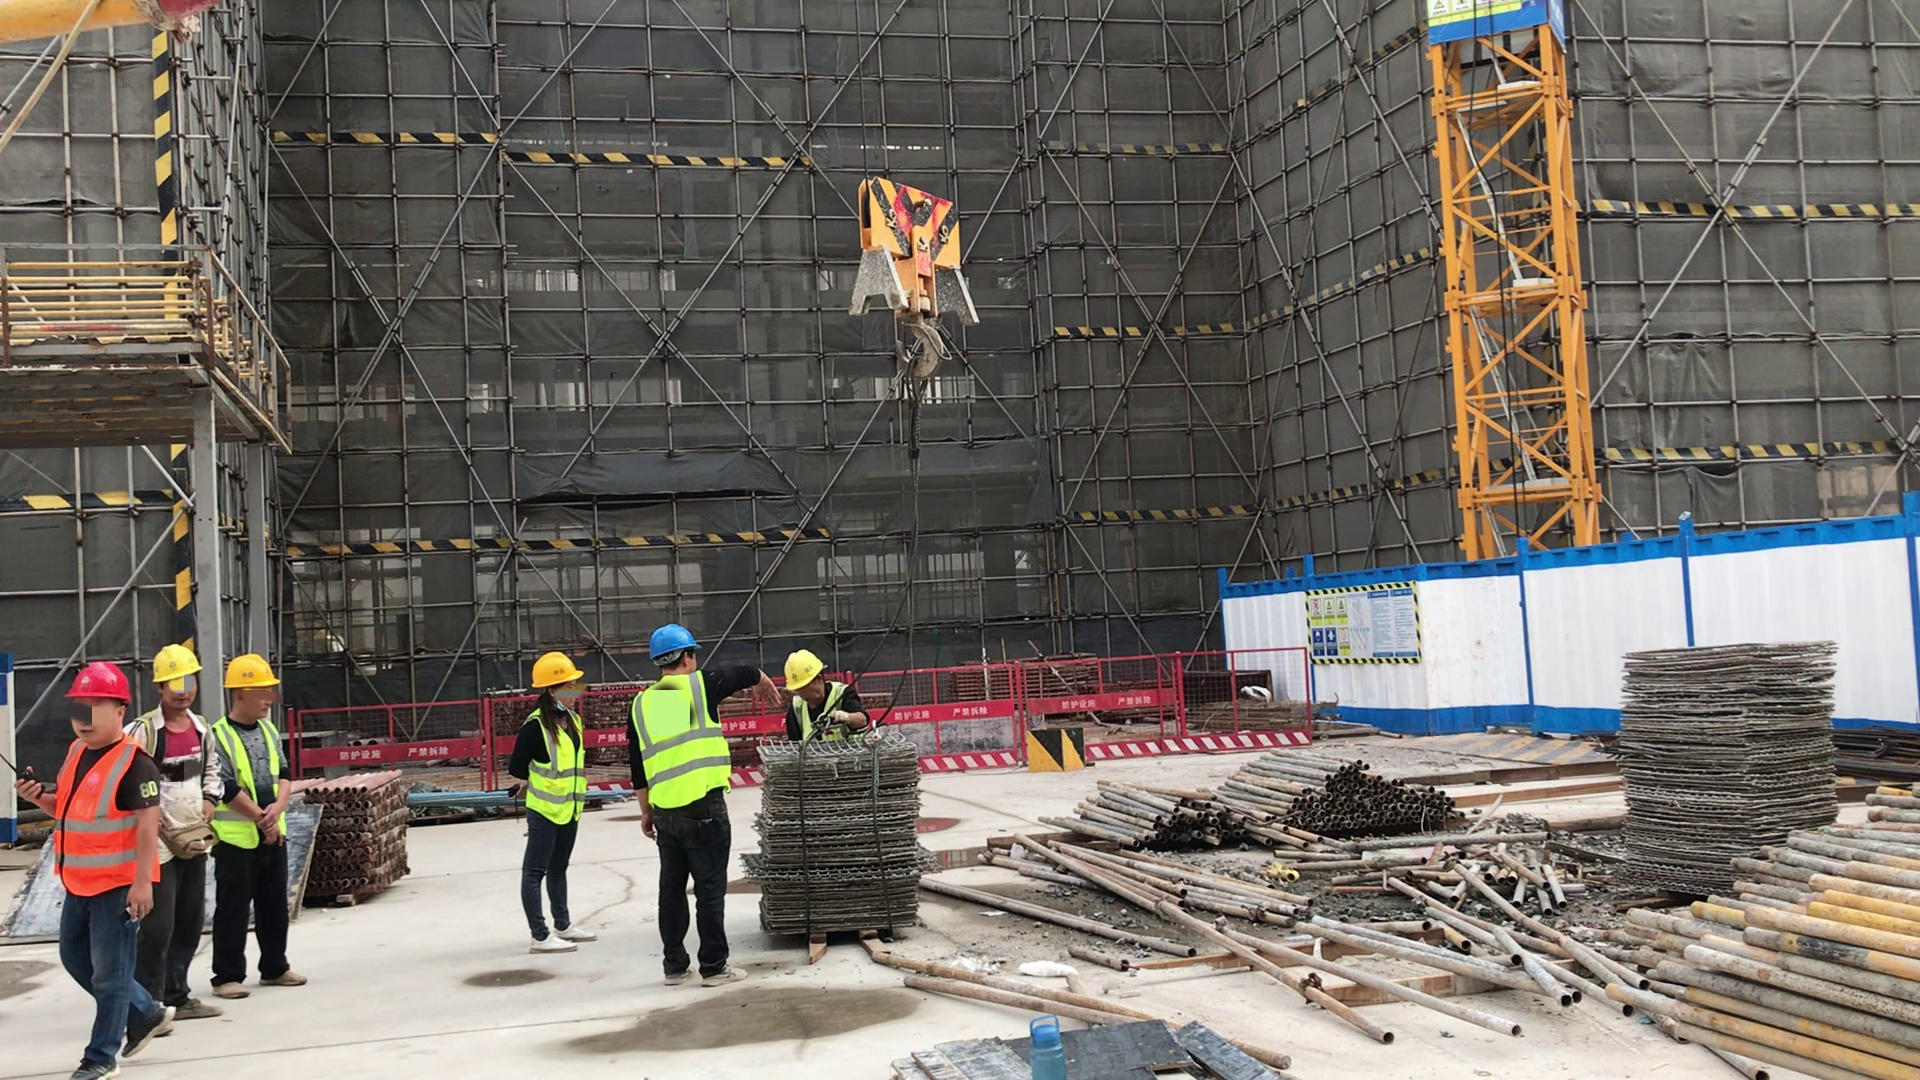helmet: (61, 664, 132, 707), (222, 655, 282, 692), (152, 643, 205, 683), (529, 653, 586, 689), (646, 625, 702, 661), (784, 650, 826, 690)
person: (52, 660, 180, 1058), (626, 623, 761, 991), (214, 652, 313, 1000), (145, 642, 228, 1029), (505, 651, 602, 955), (785, 646, 875, 736)
vest: (54, 739, 161, 897), (632, 673, 734, 813), (208, 717, 293, 852), (523, 708, 589, 825), (791, 685, 854, 737)
